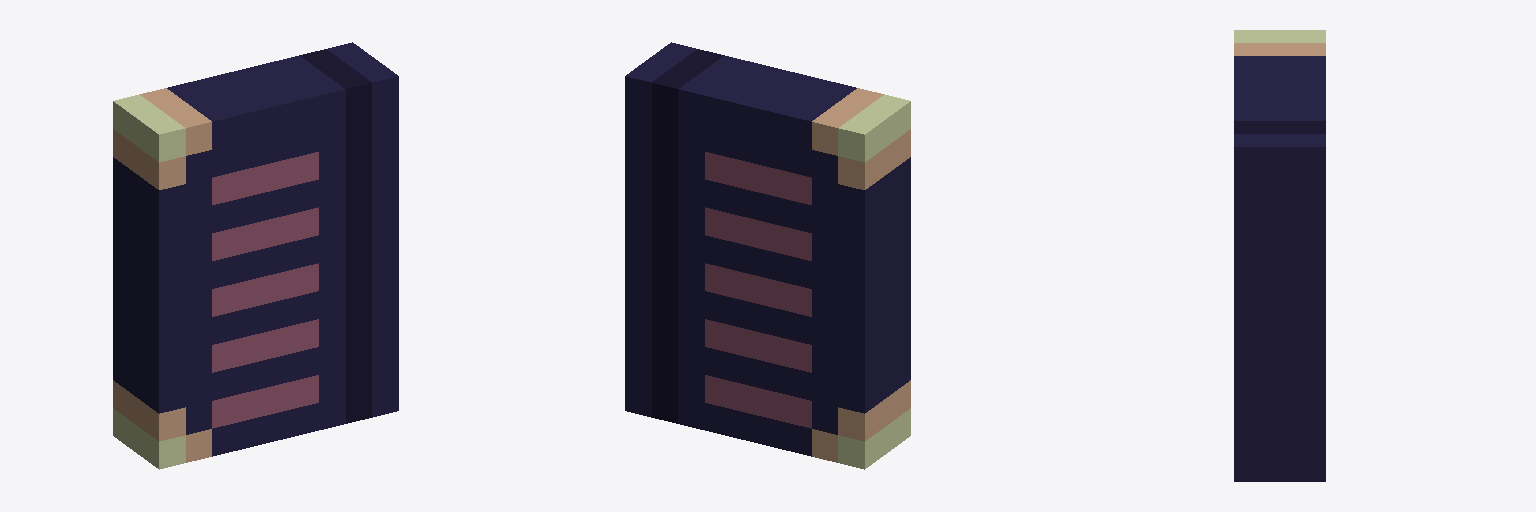
Rendered from Book.obj.
The picture shows the model from 3 angles: view 1: azimuth 30°, elevation 25°; view 2: azimuth 150°, elevation 25°; view 3: azimuth 270°, elevation 25°; orthographic projection.
Size of the model in its own units: 9 by 12 by 3.